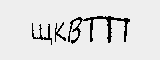В: (65, 15, 84, 47)
К: (54, 17, 68, 46)
П: (105, 15, 134, 47)
Т: (83, 11, 103, 45)
Щ: (27, 21, 52, 48)
